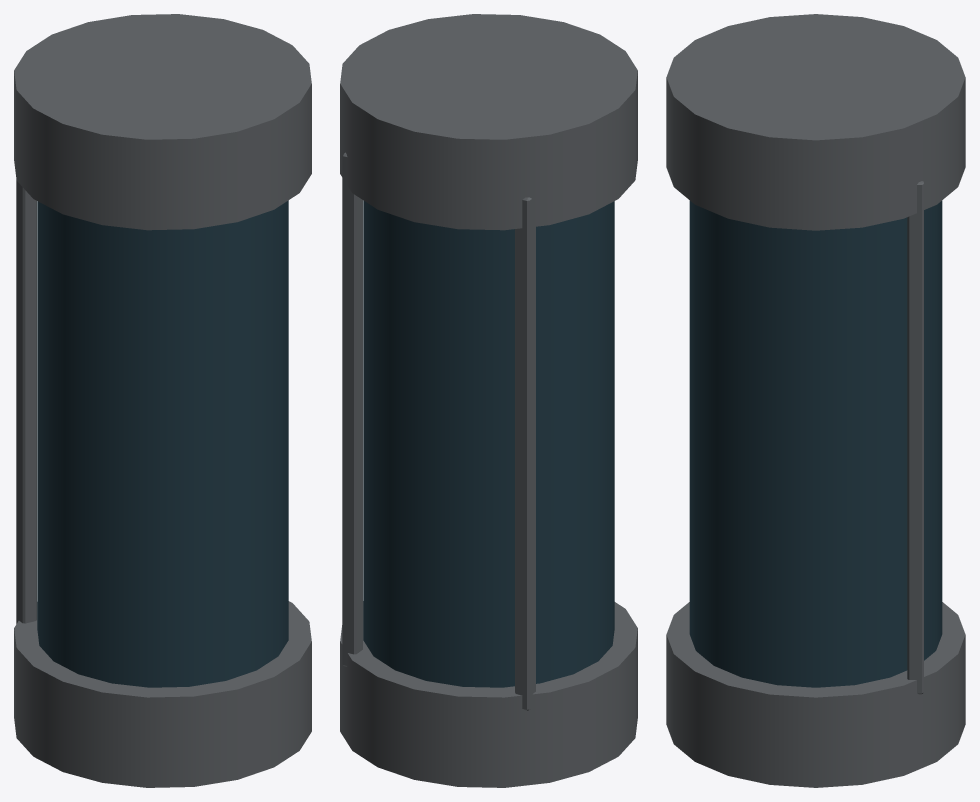
Rendered from specimen_tank.glb.
3 renders of one model, left to right at view 1: azimuth 30°, elevation 25°; view 2: azimuth 150°, elevation 25°; view 3: azimuth 270°, elevation 25°, orthographic.
Parts seen in each view (by area): view 1: specimen_tank; view 2: specimen_tank; view 3: specimen_tank.
Boxes of the visible parts, <box> form: specimen_tank: <box>14,14,311,787</box>; specimen_tank: <box>340,14,637,787</box>; specimen_tank: <box>666,14,965,787</box>.
Bounding box in the file's own units: 0.9 × 2.15 × 0.9.
